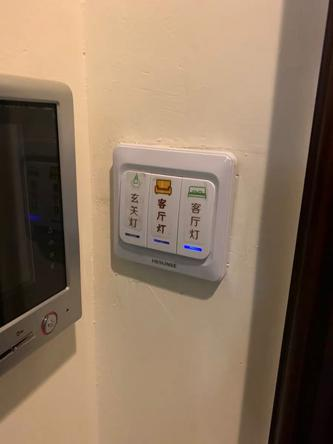switch: (177, 175, 218, 262), (115, 162, 150, 247), (150, 171, 176, 254)
